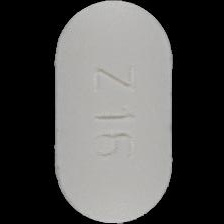45865-684: (0, 0, 224, 224)
